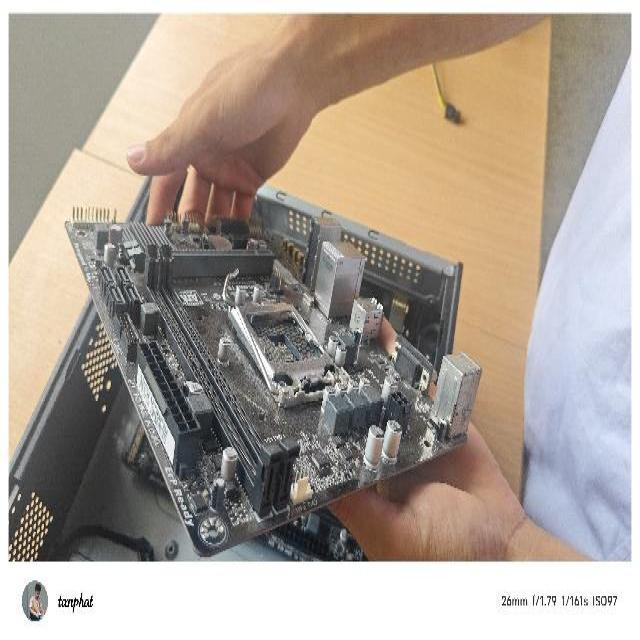Mainboard: (59, 192, 483, 558)
